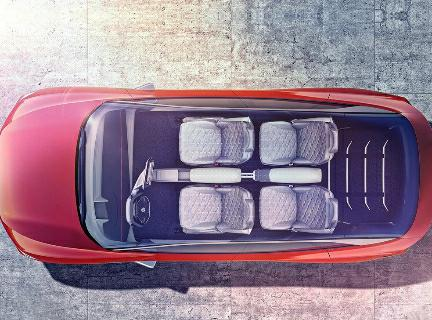大众-IDCrozz: (4, 80, 428, 269)
